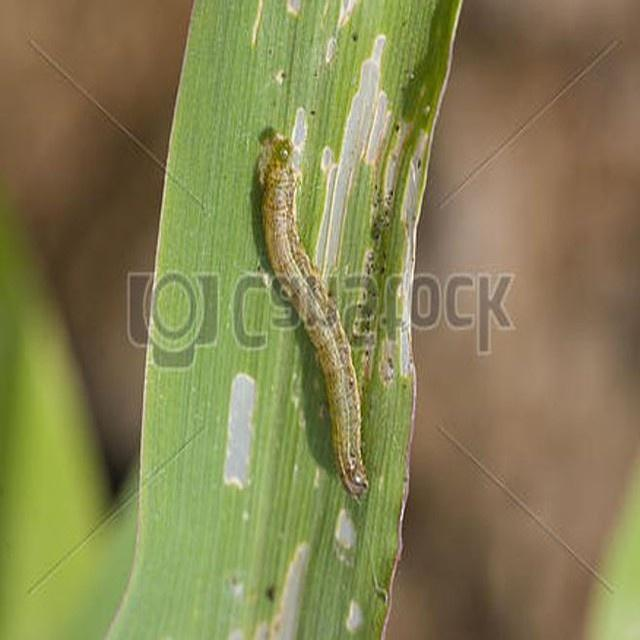gusano_cogollero: (262, 138, 364, 495)
